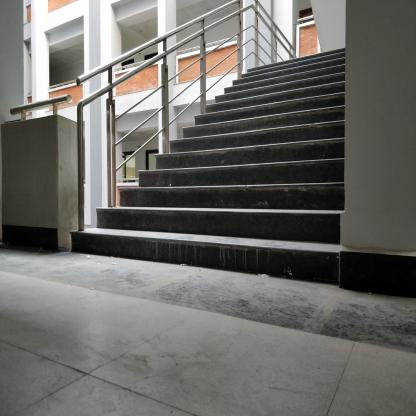stairs: (184, 125, 338, 289)
